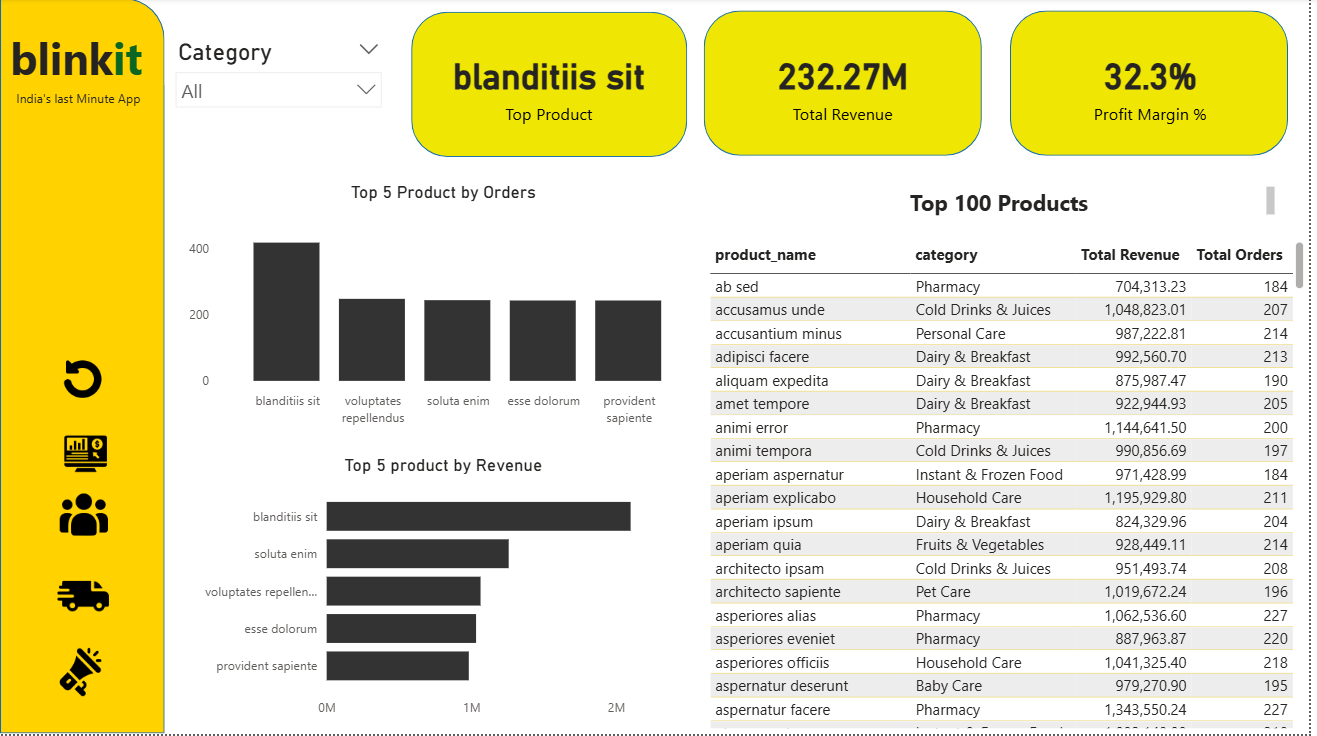

This screenshot's page, from the dashboard's own definition file:
{"tool":"powerbi","page":{"name":"Product","canvas":[1280,720],"ordinal":3},"visuals":[{"type":"shape","box":[402,14,270,142],"z":0},{"type":"card","fields":{"Values":["Min(Master_table.product_name)"]},"box":[424,22,226,126],"z":1000},{"type":"shape","box":[0,0,161,719.5],"z":2000},{"type":"textbox","box":[0,24.7,149.4,76.6],"z":3000},{"type":"shape","box":[688,12,272,142],"z":4000},{"type":"card","fields":{"Values":[" Measure table.Total Revenue"]},"box":[712,22,226,126],"z":5000},{"type":"shape","box":[988,12,272,142],"z":6000},{"type":"card","fields":{"Values":[" Measure table.Profit Margin %"]},"box":[1012,22,226,126],"z":7000},{"type":"clusteredColumnChart","title":"Top 5 Product by Orders","fields":{"Category":["Master_table.product_name"],"Y":[" Measure table.Total Orders"]},"box":[180,180,508,246],"z":8000},{"type":"clusteredBarChart","title":"Top 5 product by Revenue","fields":{"Category":["Master_table.product_name"],"Y":[" Measure table.Total Revenue"]},"box":[180,446,508,266],"z":9000},{"type":"tableEx","fields":{"Values":["Master_table.product_name","Master_table.category"," Measure table.Total Revenue"," Measure table.Total Orders"]},"box":[688,234,592,486],"z":10000},{"type":"textbox","box":[712,180,540,38],"z":11000},{"type":"slicer","fields":{"Values":["Master_table.category"]},"box":[162,34,222,100],"z":12000},{"type":"image","box":[33.8,420,99.7,53.4],"z":13000},{"type":"image","box":[44.5,477,76.5,57],"z":14000},{"type":"image","box":[43.4,630.4,71.7,56.6],"z":15000},{"type":"image","box":[51,553,60.4,64.2],"z":16000},{"type":"image","box":[50.5,346.5,60.9,54],"z":17000},{"type":"textbox","box":[10.7,83.6,144.2,33.8],"z":18000}]}

Visuals, with their boxes in screenshot pixels (x1, y1, x2, y2), scaled from the page's 1280x720 canvas onto the 1317x736 screenshot:
shape: (x1=414, y1=14, x2=691, y2=159)
card - Min(Master_table.product_name): (x1=436, y1=22, x2=669, y2=151)
shape: (x1=0, y1=0, x2=166, y2=735)
textbox: (x1=0, y1=25, x2=154, y2=104)
shape: (x1=708, y1=12, x2=988, y2=157)
card -  Measure table.Total Revenue: (x1=733, y1=22, x2=965, y2=151)
shape: (x1=1017, y1=12, x2=1296, y2=157)
card -  Measure table.Profit Margin %: (x1=1041, y1=22, x2=1274, y2=151)
"Top 5 Product by Orders" clusteredColumnChart: (x1=185, y1=184, x2=708, y2=435)
"Top 5 product by Revenue" clusteredBarChart: (x1=185, y1=456, x2=708, y2=728)
tableEx - Master_table.product_name x Master_table.category: (x1=708, y1=239, x2=1316, y2=735)
textbox: (x1=733, y1=184, x2=1288, y2=223)
slicer - Master_table.category: (x1=167, y1=35, x2=395, y2=137)
image: (x1=35, y1=429, x2=137, y2=484)
image: (x1=46, y1=488, x2=124, y2=546)
image: (x1=45, y1=644, x2=118, y2=702)
image: (x1=52, y1=565, x2=115, y2=631)
image: (x1=52, y1=354, x2=115, y2=409)
textbox: (x1=11, y1=85, x2=159, y2=120)
